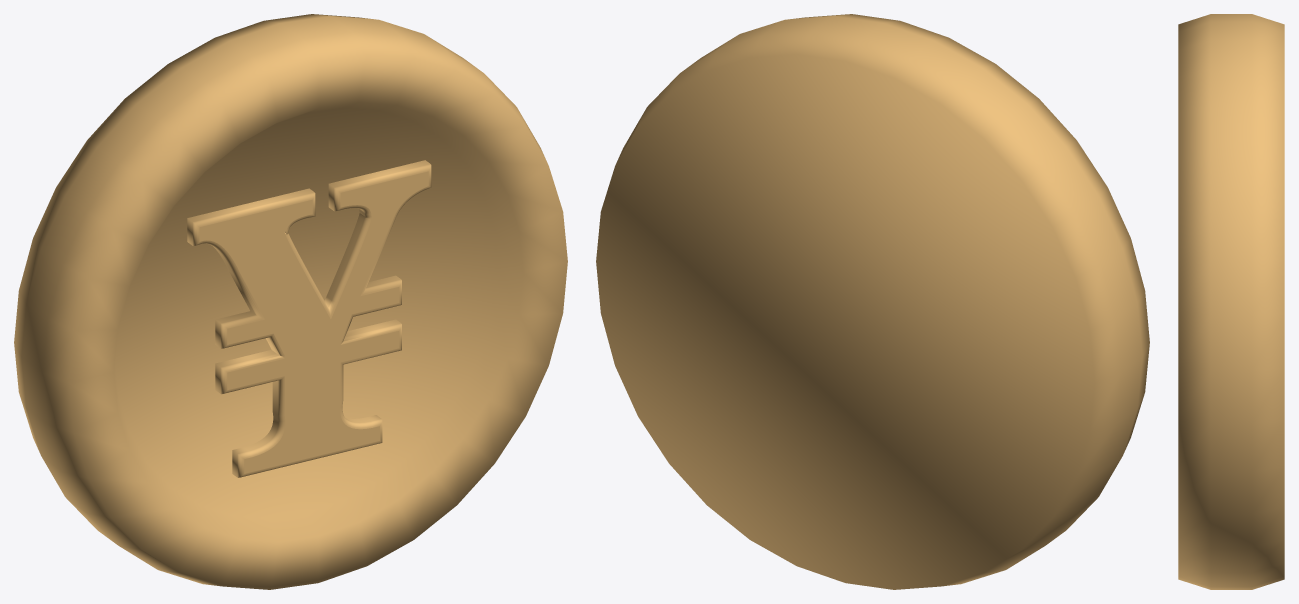
File: coin.glb
The picture shows the model from 3 angles, left to right: view 1: azimuth 30°, elevation 25°; view 2: azimuth 150°, elevation 25°; view 3: azimuth 270°, elevation 25°; orthographic projection. The views are drawn at different scales.
Visible parts, largest first — view 1: Cylinder, Text; view 2: Cylinder; view 3: Cylinder.
Boxes of the visible parts, x1,y1,x2,y2 form: Cylinder: [14, 14, 567, 589]; Text: [187, 160, 431, 477]; Cylinder: [596, 14, 1149, 589]; Cylinder: [1178, 14, 1284, 589].
Bounding box in the file's own units: 2.25 × 2.25 × 0.4148.
